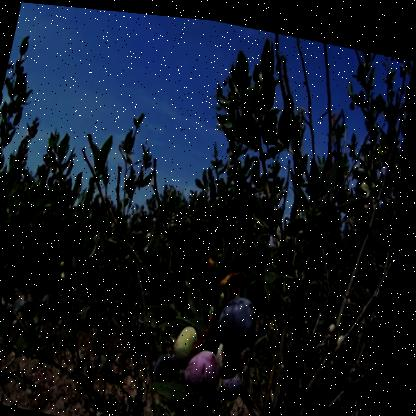intermediate: (192, 348, 229, 397)
mature: (221, 291, 269, 348), (225, 366, 255, 397), (352, 359, 369, 386), (165, 358, 185, 378)
young: (178, 319, 210, 367), (227, 345, 255, 370)
